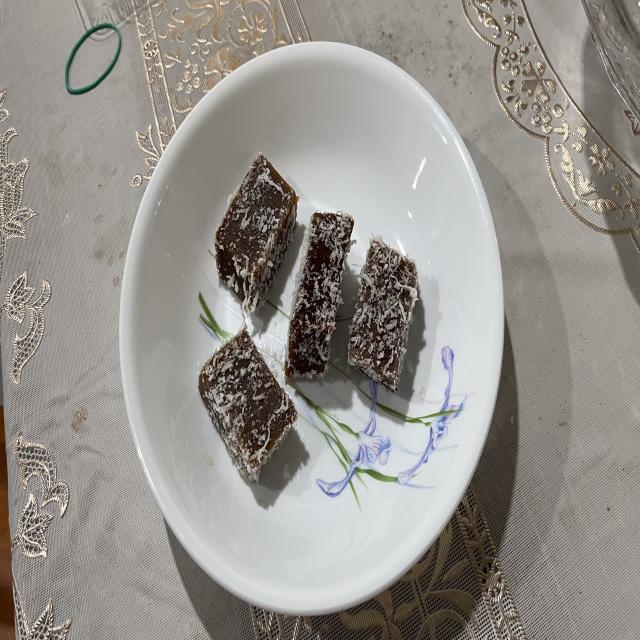kaswi: (199, 327, 298, 482), (215, 153, 298, 311), (285, 211, 354, 378), (348, 236, 418, 391)
